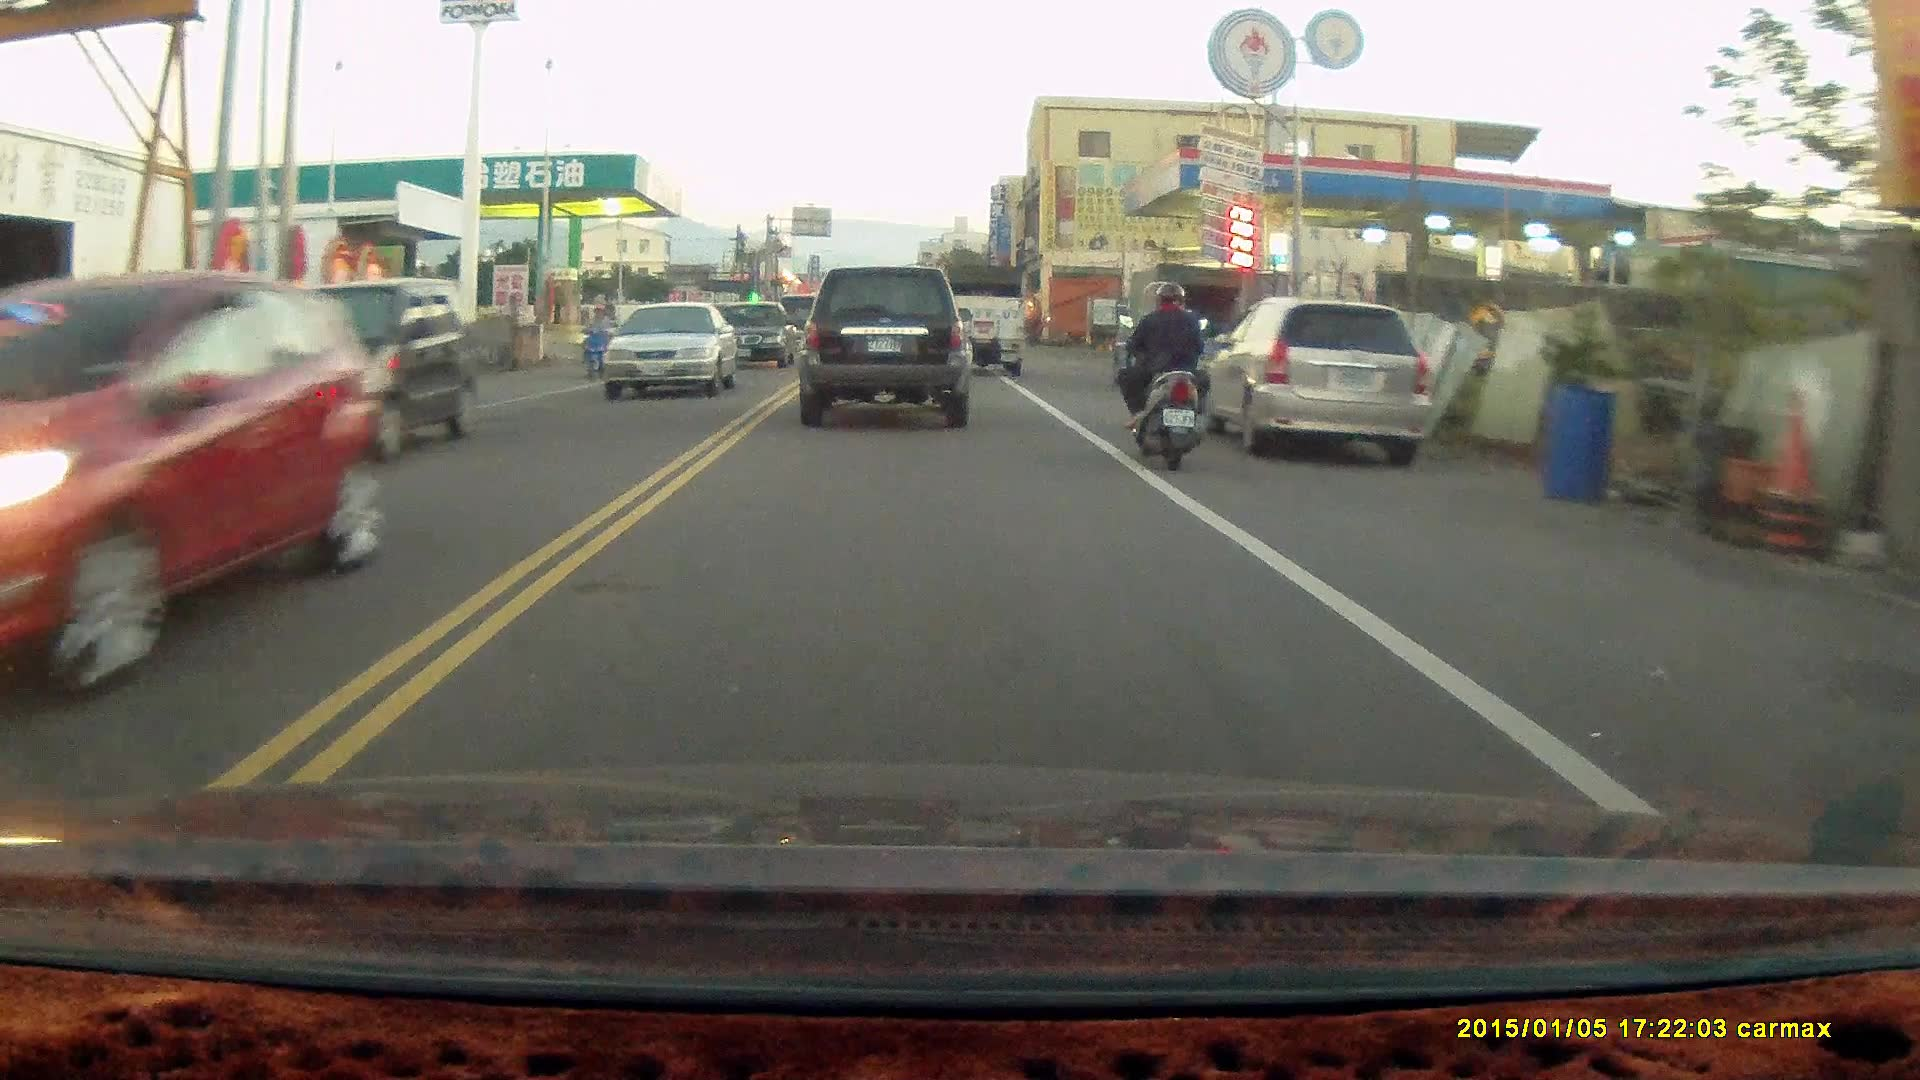rider: (1113, 276, 1210, 465), (576, 301, 623, 383)
vehicle: (1, 267, 392, 700), (219, 275, 477, 467), (1209, 294, 1440, 469), (794, 265, 972, 429), (1111, 260, 1248, 385), (599, 300, 742, 399), (938, 260, 1024, 377), (715, 299, 799, 368)
